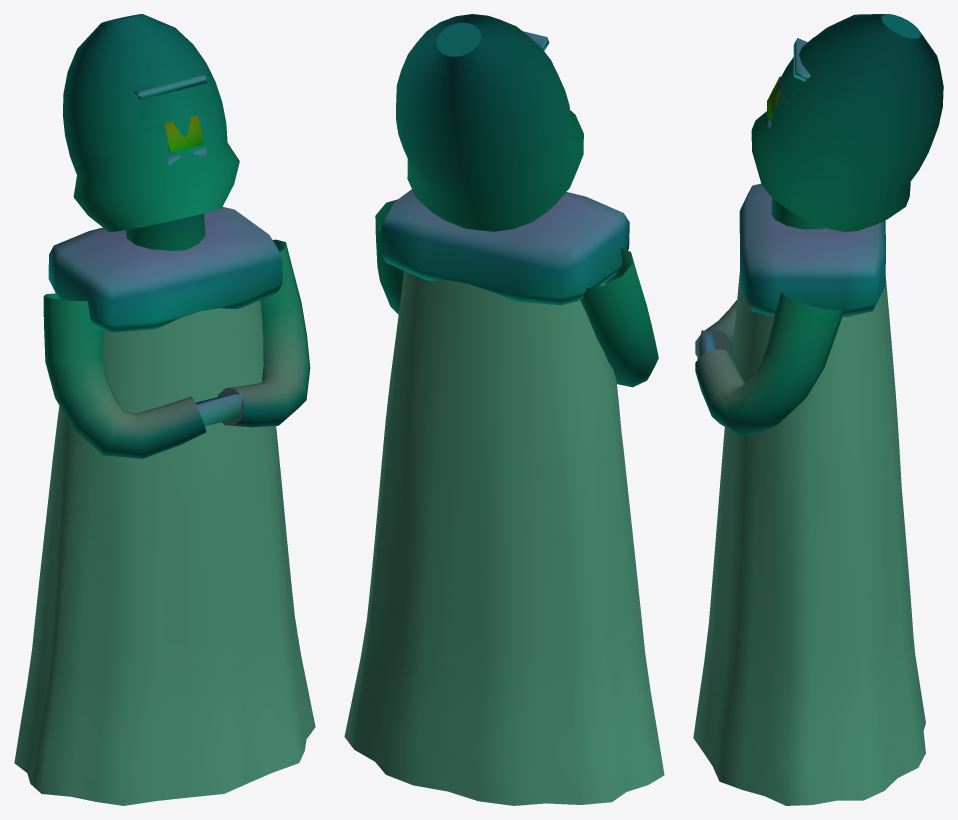
The model's file is choir_singer.glb.
3 views of the same model, side by side, from view 1: azimuth 30°, elevation 25°; view 2: azimuth 150°, elevation 25°; view 3: azimuth 270°, elevation 25° (orthographic). The views are drawn at different scales.
Parts seen in each view (by area): view 1: choir_singer; view 2: choir_singer; view 3: choir_singer.
Boxes of the visible parts, box(x1,y1,x2,y2) form: choir_singer: box(14, 14, 315, 805); choir_singer: box(344, 14, 664, 805); choir_singer: box(693, 14, 943, 805).
Size of what is drawn, in the model's own units: 8.93 by 22.06 by 6.95.
